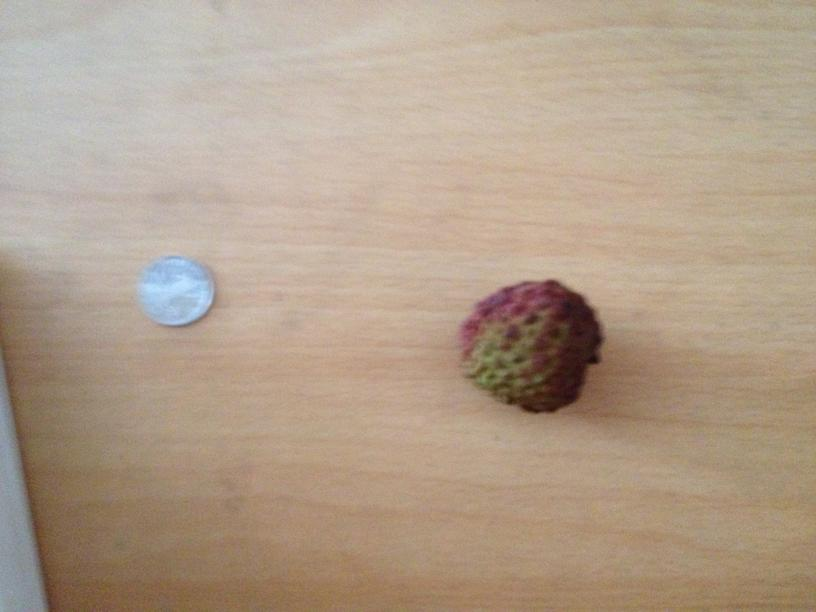coin: (136, 255, 217, 327)
litchi: (455, 277, 601, 412)
